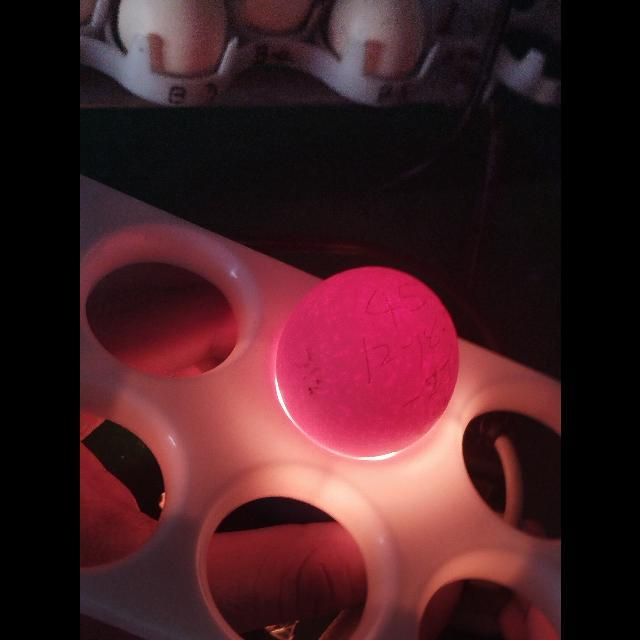Infertile: (276, 260, 458, 460)
